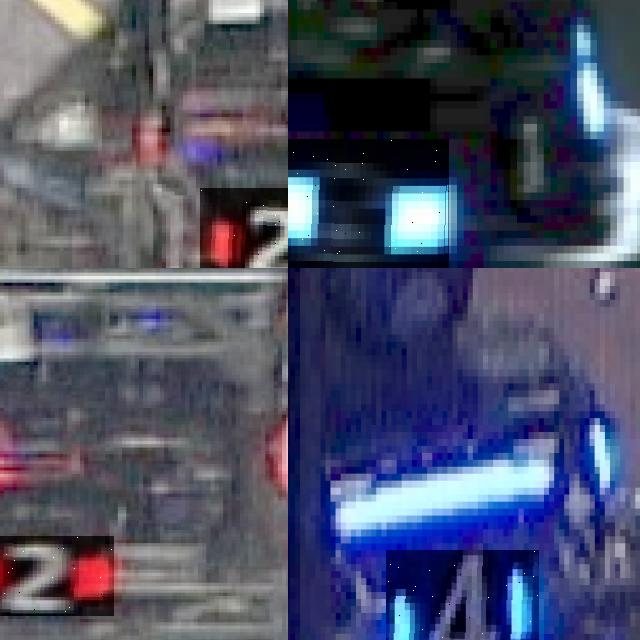B4: (386, 550, 538, 640)
Bs: (288, 139, 450, 268)
R2: (0, 536, 113, 615), (200, 188, 288, 268)
